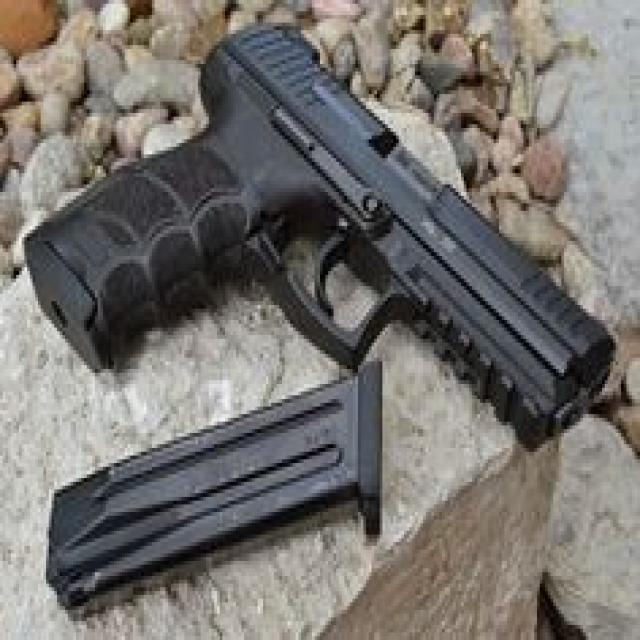semi automatic: (19, 12, 632, 526)
